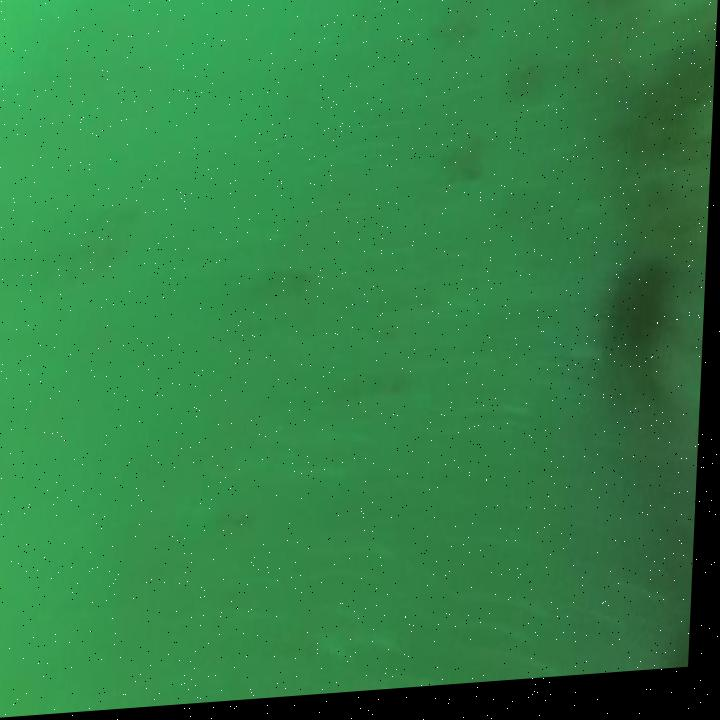echinus: (607, 259, 674, 389)
